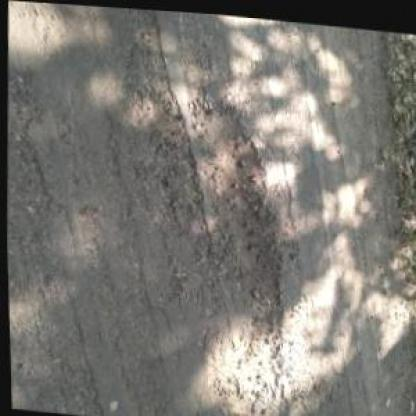pothole: (189, 102, 294, 350)
